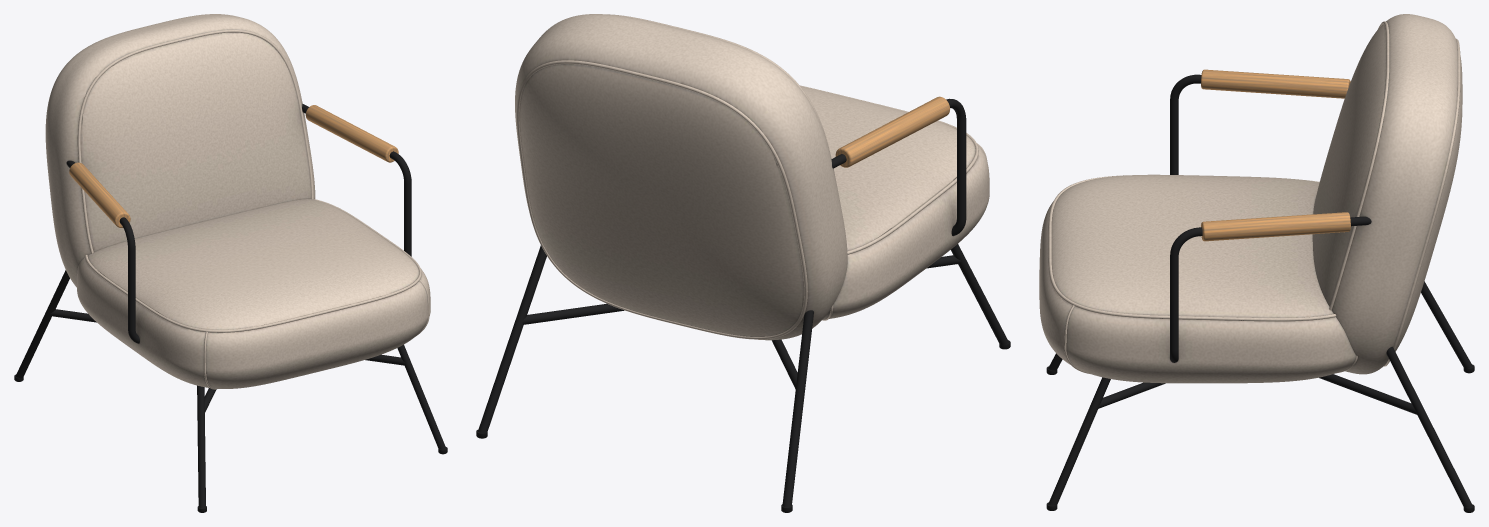
3 renders of one model, left to right at view 1: azimuth 30°, elevation 25°; view 2: azimuth 150°, elevation 25°; view 3: azimuth 270°, elevation 25°, orthographic. The views are drawn at different scales.
Visible parts, largest first — view 1: Cadeirao_Adura; view 2: Cadeirao_Adura; view 3: Cadeirao_Adura.
Boxes of the visible parts, box(x1,y1,x2,y2) form: Cadeirao_Adura: box(14, 14, 447, 512); Cadeirao_Adura: box(476, 14, 1010, 512); Cadeirao_Adura: box(1039, 14, 1474, 512).
Bounding box in the file's own units: 0.6887 × 0.7902 × 0.7897.
3 materials, 2 textured.
